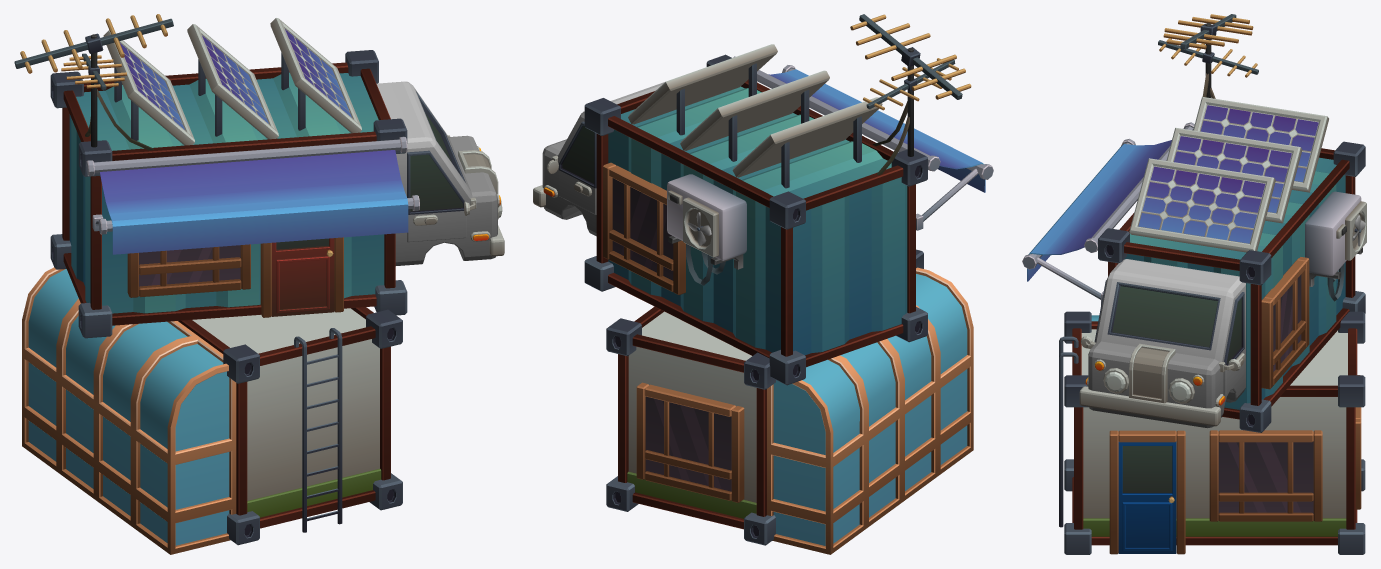
File: sp_prebuild_house_05.fbx
The picture shows the model from 3 angles, left to right: view 1: azimuth 30°, elevation 25°; view 2: azimuth 150°, elevation 25°; view 3: azimuth 270°, elevation 25°; orthographic projection. The views are drawn at different scales.
Visible parts, largest first — view 1: finb_house_05; view 2: finb_house_05; view 3: finb_house_05.
Boxes of the visible parts, left/top/right/bottom form: finb_house_05: left=14, top=14, right=504, bottom=554; finb_house_05: left=533, top=14, right=993, bottom=554; finb_house_05: left=1022, top=14, right=1366, bottom=554.
Bounding box in the file's own units: 794 × 802 × 572.
